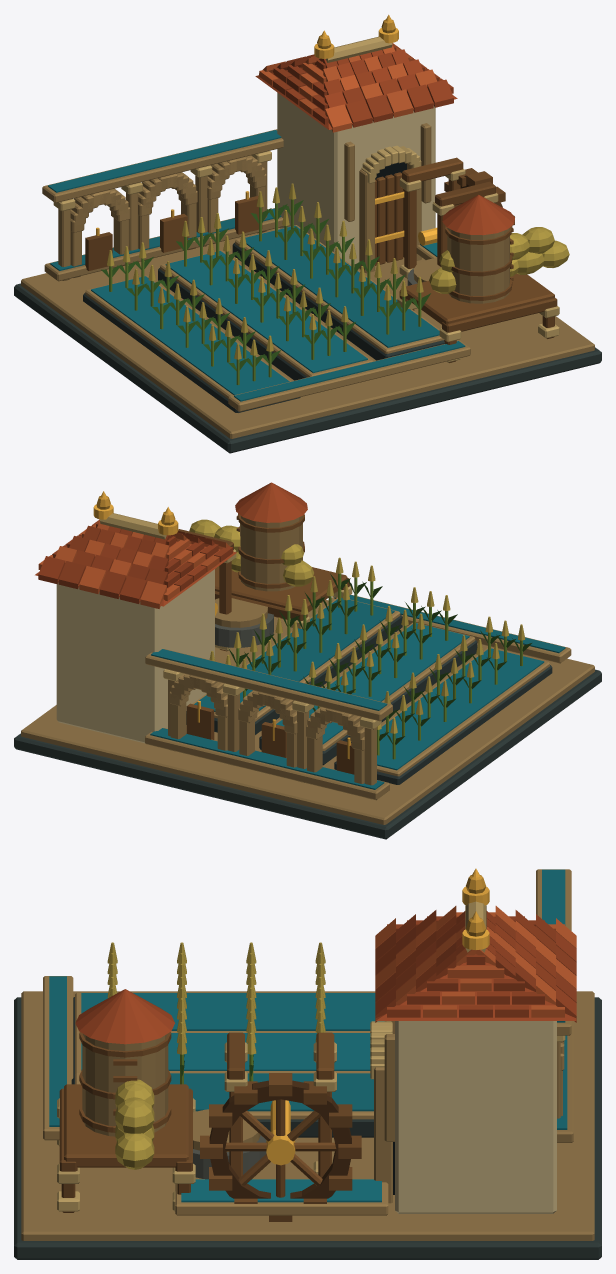
3 views of the same model, one above another, from view 1: azimuth 30°, elevation 25°; view 2: azimuth 150°, elevation 25°; view 3: azimuth 270°, elevation 25° (orthographic). The views are drawn at different scales.
Parts seen in each view (by area): view 1: farm_9_structure, farm_9_metal; view 2: farm_9_structure, farm_9_metal; view 3: farm_9_structure, farm_9_metal.
Boxes of the visible parts, x1,y1,x2,y2 form: farm_9_structure: (14, 19, 601, 453); farm_9_metal: (96, 14, 437, 245); farm_9_structure: (14, 482, 601, 839); farm_9_metal: (93, 491, 350, 759); farm_9_structure: (14, 869, 601, 1259); farm_9_metal: (266, 868, 489, 1165).
Size of the model in its own units: 5.6 by 3.29 by 5.46.
